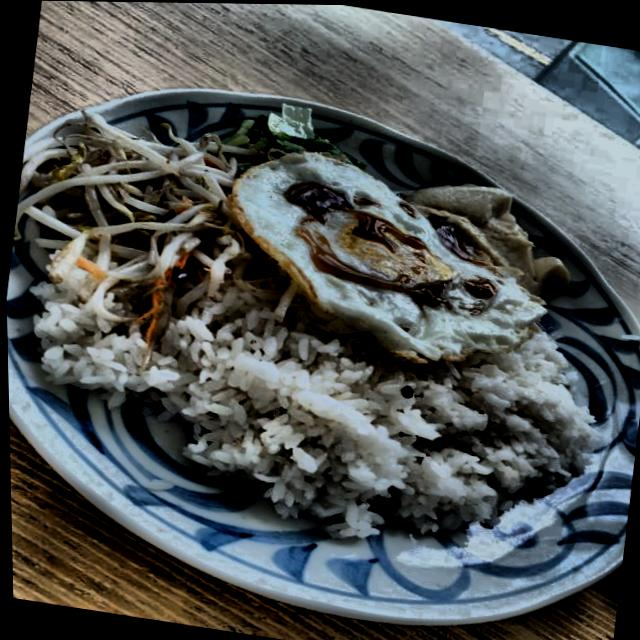Food: (211, 139, 555, 378), (187, 320, 524, 509), (57, 126, 237, 272)
